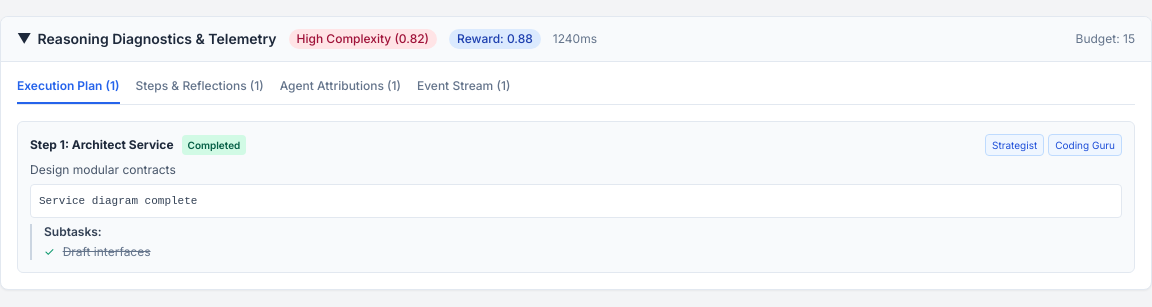
Test: ReasoningDiagnosticsPanel › allows switching to Reflections tab and displays thoughts
The image size is (1152, 307).
What coordinates should you click on to do the following:
click the button "Steps & Reflections (1)"
I would click on:
 (200, 91)
Its box is [136,78,264,104].
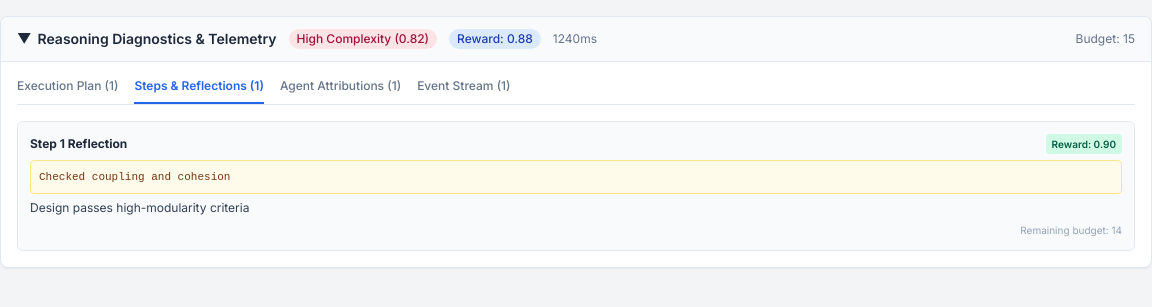
Now the text "Step 1 Reflection" is shown, box [30,136,127,152]
Now the text "Checked coupling and cohesion" is shown, box [30,160,1122,194]
Now the text "Design passes high-modularity criteria" is shown, box [30,200,249,215]
